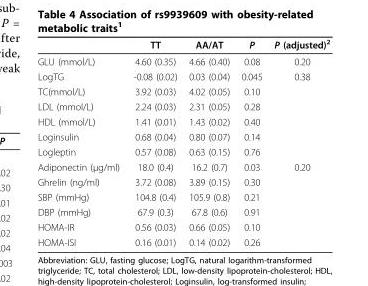table: (36, 37, 329, 247)
table column: (36, 37, 125, 247), (267, 37, 329, 247), (125, 37, 182, 247), (182, 37, 234, 247), (234, 37, 267, 247)
table column header: (36, 37, 329, 52)
table row: (36, 52, 329, 68), (36, 143, 329, 159), (36, 37, 329, 52), (36, 68, 329, 83), (36, 83, 329, 98), (36, 98, 329, 113), (36, 113, 329, 128), (36, 128, 329, 143), (36, 159, 329, 174), (36, 174, 329, 189), (36, 189, 329, 204), (36, 204, 329, 219), (36, 219, 329, 234), (36, 234, 329, 247)
